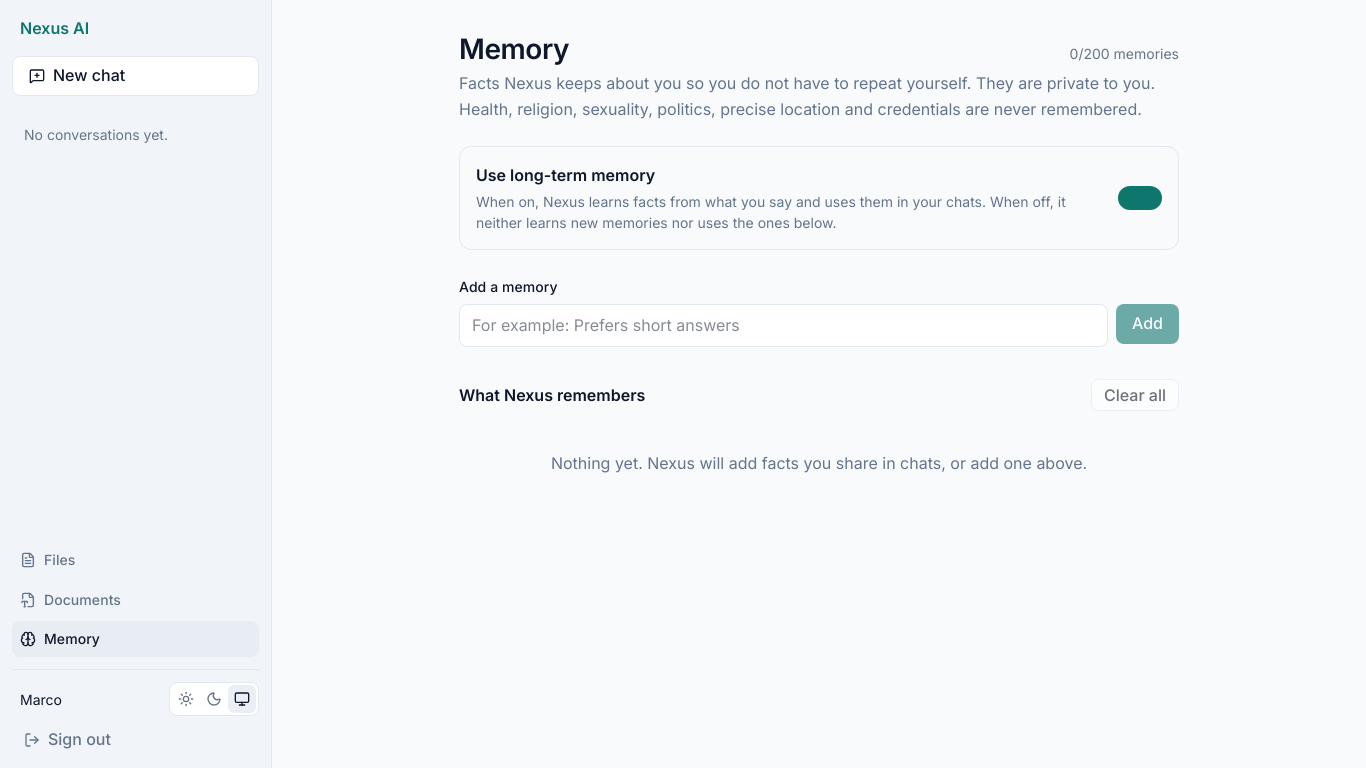
it: Settings → Memory › the switch › keeps its position and says why when the server refuses
Click the switch named "Use long-term memory" at (1140, 198), box [1118,186,1162,210]
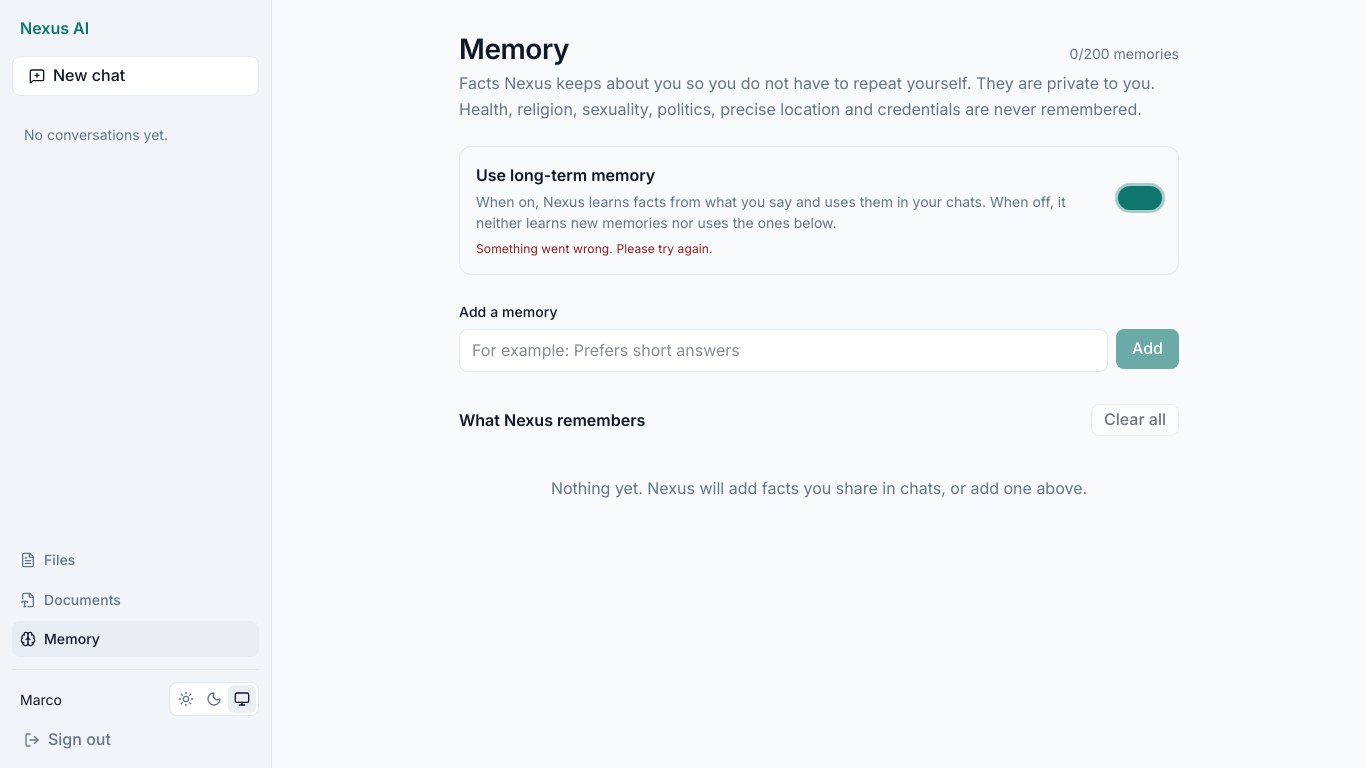
Expected: the message "Something went wrong. Please try again." is shown, [476,241,713,256]
